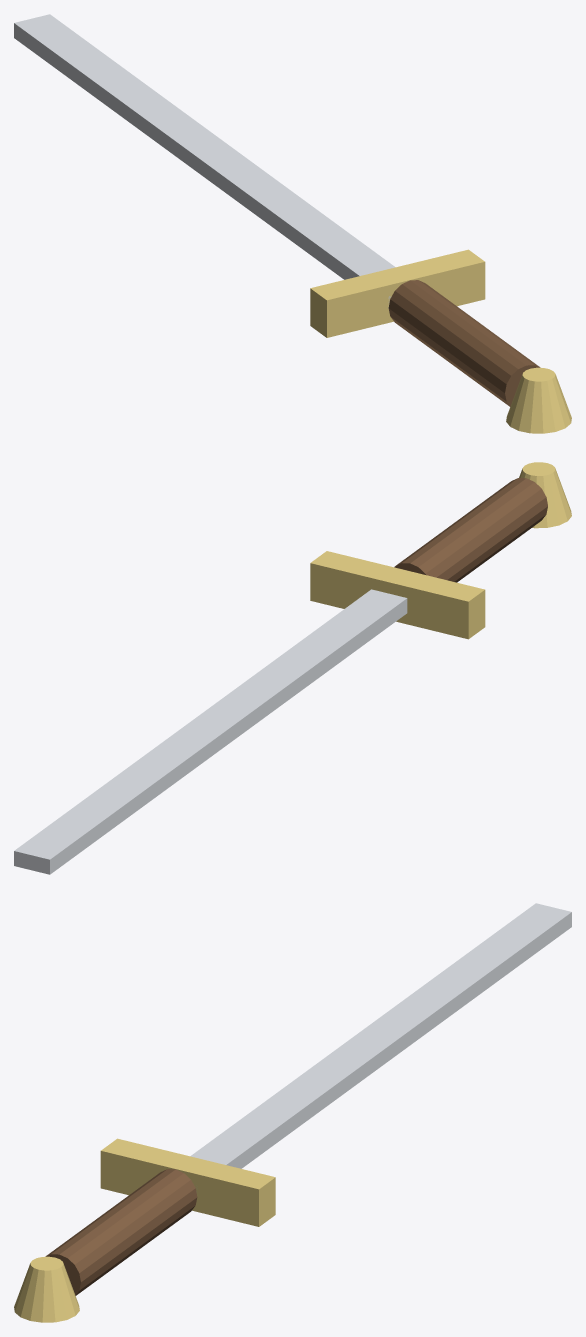
Rendered from sword.glb.
The picture shows the model from 3 angles, top to bottom: view 1: azimuth 30°, elevation 25°; view 2: azimuth 150°, elevation 25°; view 3: azimuth 330°, elevation 25°; orthographic projection.
Parts seen in each view (by area): view 1: sword; view 2: sword; view 3: sword.
Boxes of the visible parts, box(x1,y1,x2,y2) form: sword: box(14, 14, 571, 433); sword: box(14, 462, 571, 874); sword: box(14, 903, 571, 1322).
Bounding box in the file's own units: 0.22 × 0.06 × 1.26.
